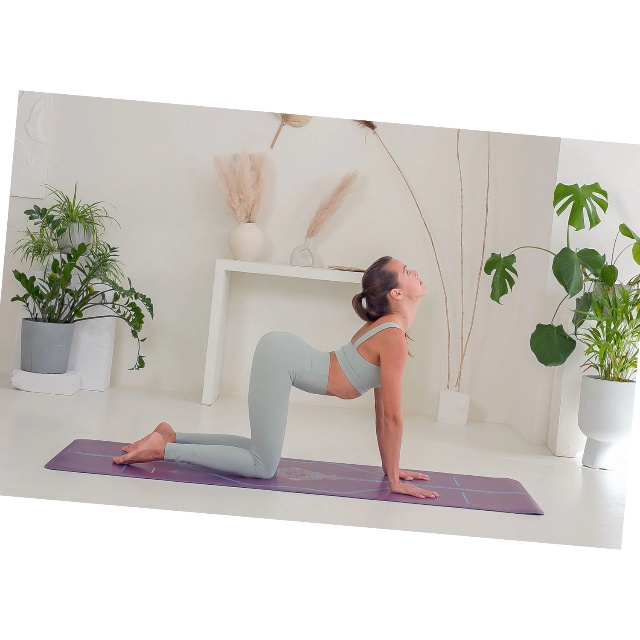Cow_Pose: (112, 257, 443, 498)
